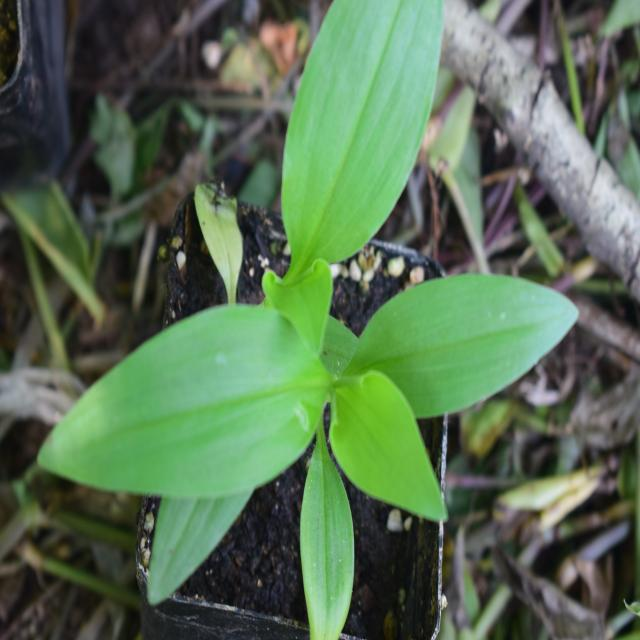Common Dayflower: (52, 239, 566, 598)
